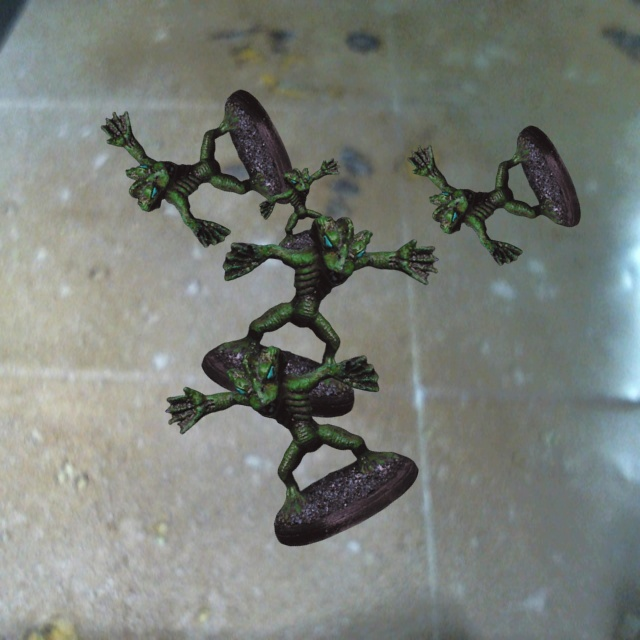pieza_juego: (165, 346, 418, 545), (201, 215, 438, 417), (101, 89, 296, 247), (407, 125, 580, 265), (259, 158, 341, 258)
